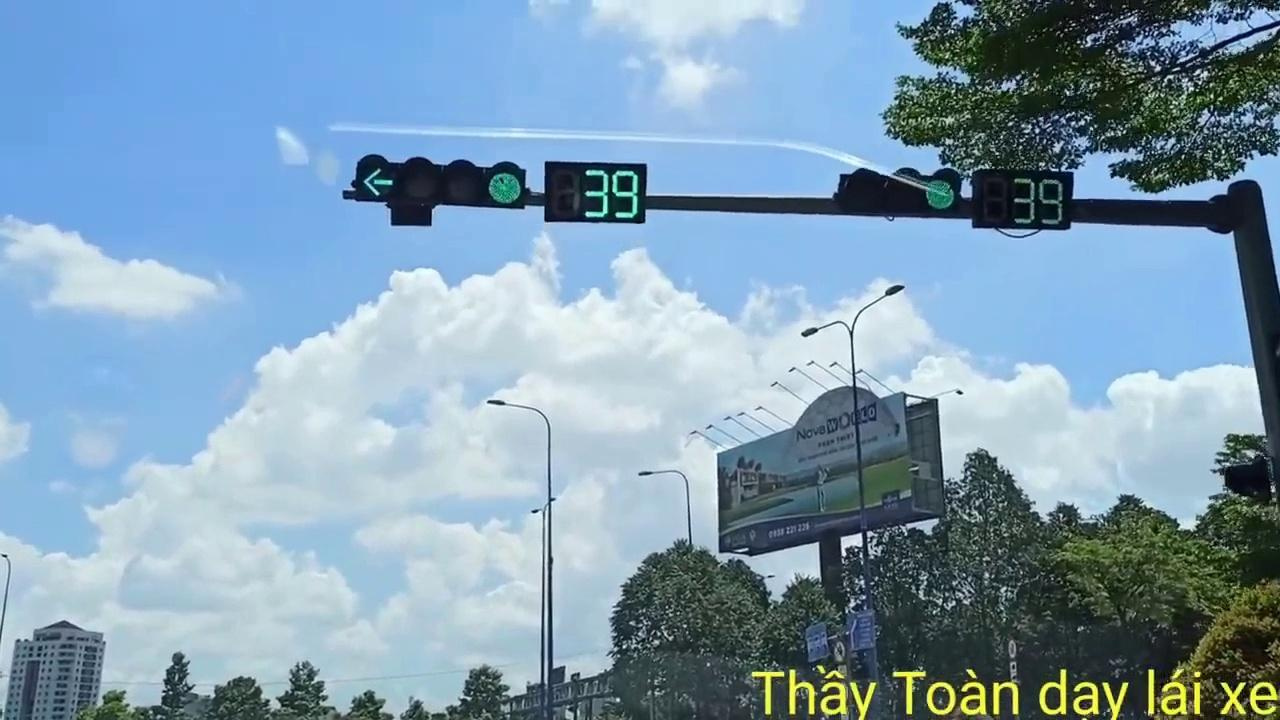Chỉ hướng đường: (845, 608, 877, 652)
Cấm xe máy: (831, 639, 849, 664)
Làn đường cho từng xe: (802, 621, 831, 664)
